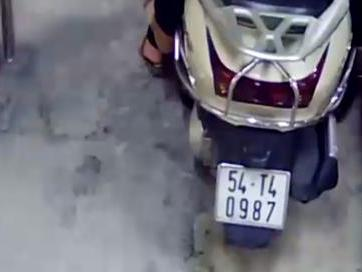num_plate: (212, 161, 295, 232)
